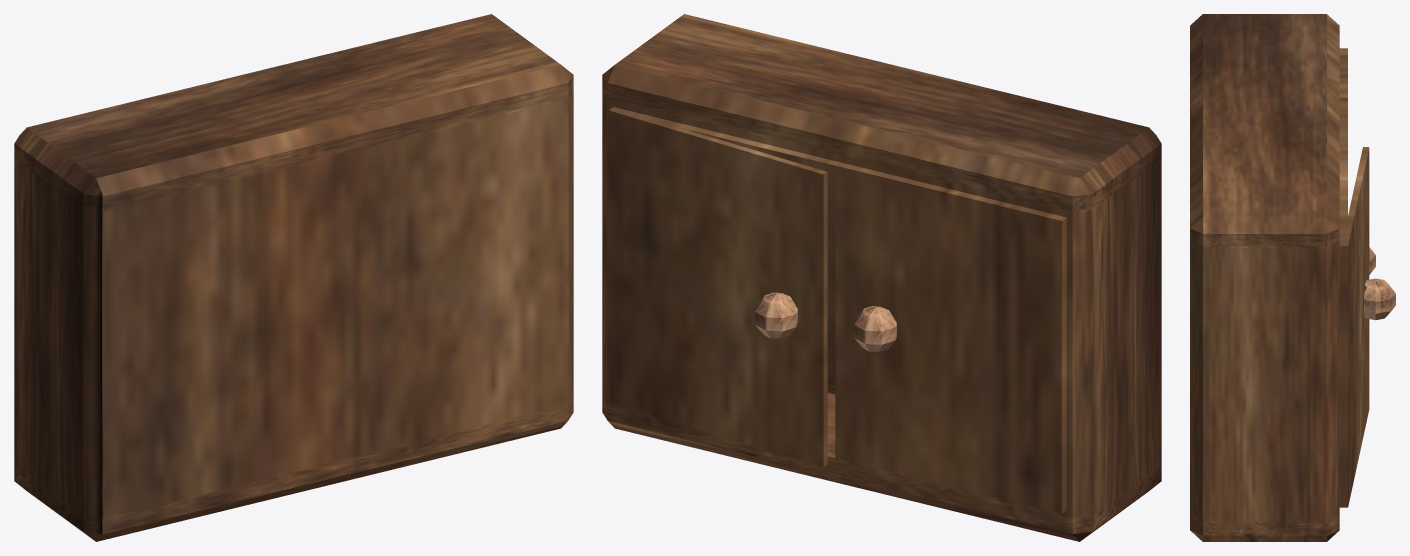
File: armario_cozinha1.fbx
3 views of the same model, side by side, from view 1: azimuth 30°, elevation 25°; view 2: azimuth 150°, elevation 25°; view 3: azimuth 270°, elevation 25° (orthographic). The views are drawn at different scales.
Parts seen in each view (by area): view 1: armario; view 2: armario; view 3: armario.
Part boxes in pixels (bbox=[...]): armario: bbox=[14, 14, 573, 541]; armario: bbox=[602, 14, 1161, 541]; armario: bbox=[1190, 14, 1395, 541].
Size of the model in its own units: 268 by 190 by 109.
Materials: 1 (1 with a texture image).
